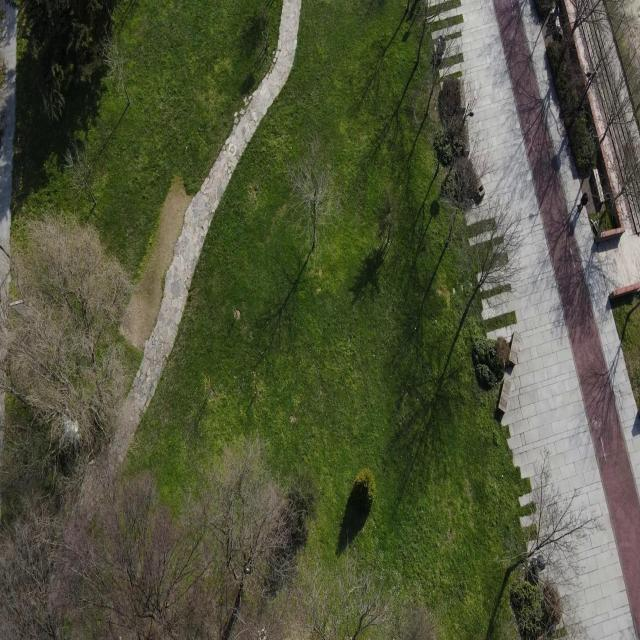p3rson: (576, 191, 589, 214)
